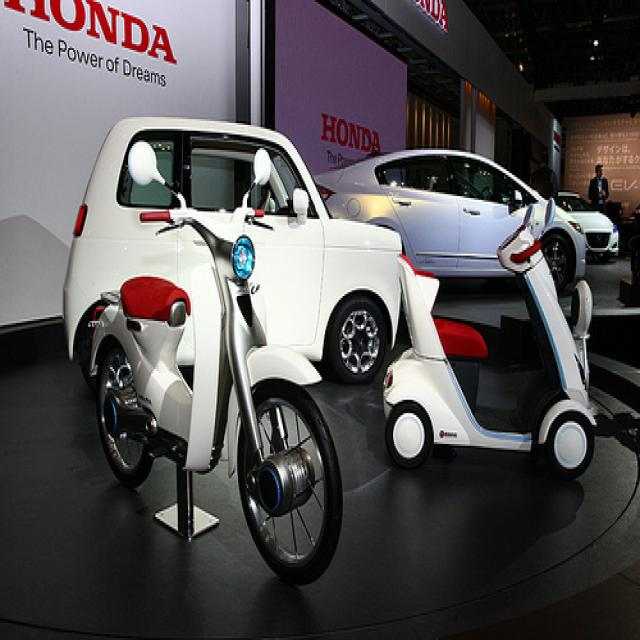motor: (73, 135, 343, 585), (380, 195, 598, 484)
